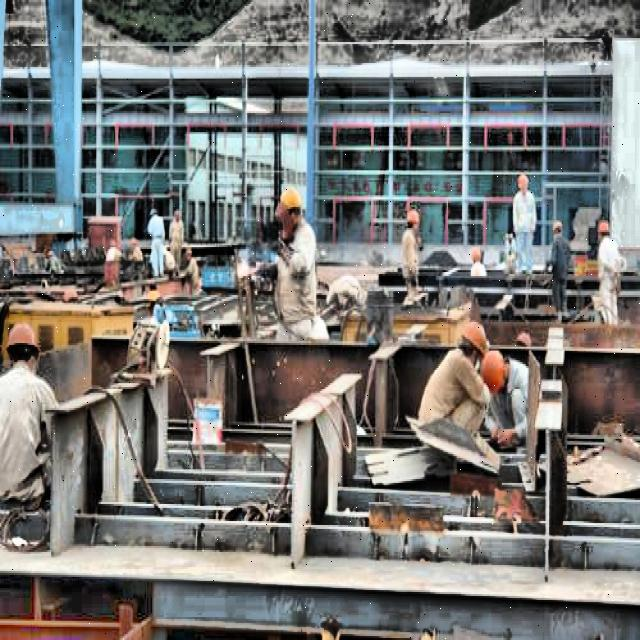helmet: (4, 314, 40, 378), (458, 320, 488, 366), (481, 349, 511, 391), (282, 180, 302, 228), (407, 207, 419, 234), (598, 214, 610, 240)
